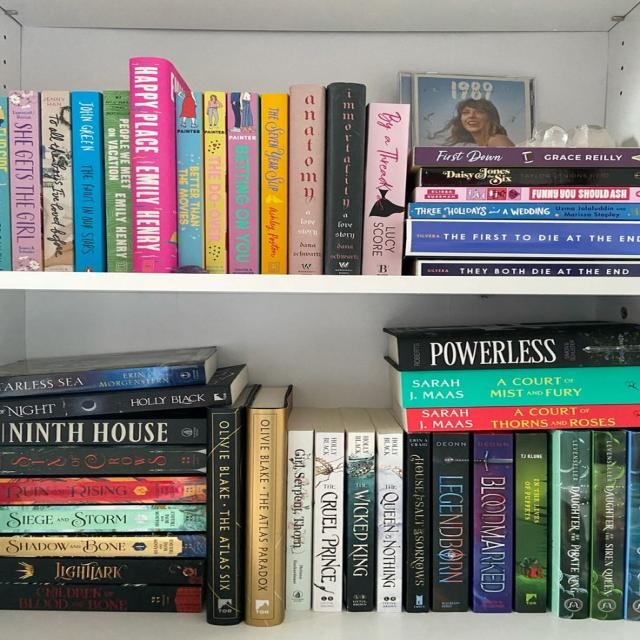book: (0, 365, 246, 421), (385, 324, 639, 371), (0, 346, 217, 397), (129, 59, 175, 272), (400, 367, 639, 407), (407, 220, 640, 258), (246, 408, 284, 626), (473, 434, 514, 613), (0, 411, 206, 446), (430, 433, 470, 611), (208, 409, 240, 624), (328, 83, 363, 275), (404, 404, 639, 432), (556, 431, 590, 622), (0, 582, 200, 614), (290, 85, 324, 272), (368, 103, 404, 274), (227, 91, 261, 272), (592, 431, 624, 620), (0, 447, 206, 476), (42, 91, 75, 271), (10, 91, 43, 270), (0, 557, 203, 586), (0, 505, 206, 533), (0, 476, 205, 504), (516, 434, 548, 613), (72, 90, 103, 272), (103, 90, 132, 271), (347, 432, 375, 611), (0, 534, 205, 558), (176, 92, 203, 272), (262, 94, 288, 275), (316, 431, 341, 613), (377, 433, 402, 614), (404, 434, 429, 612), (421, 167, 640, 187), (204, 92, 228, 274), (286, 431, 310, 611), (414, 147, 640, 166), (417, 260, 640, 278), (410, 203, 640, 220), (415, 186, 640, 201), (628, 432, 639, 619), (1, 96, 11, 269)
